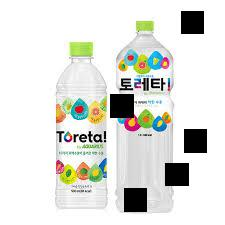toreta: (54, 30, 107, 215)
